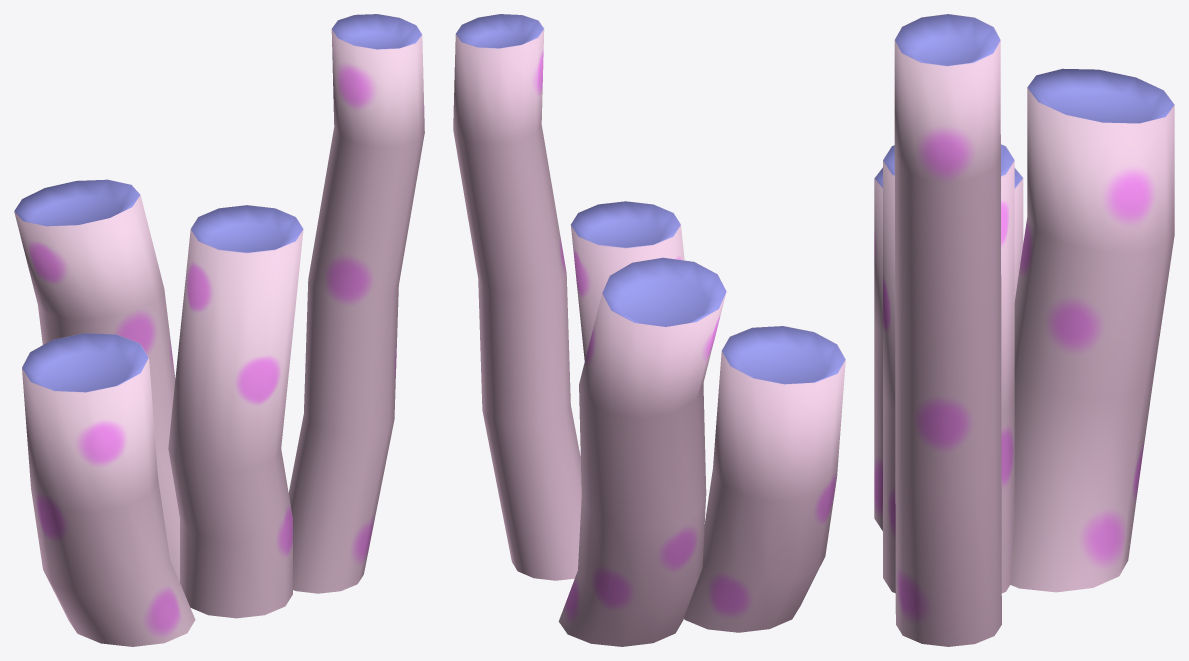
Rendered from Corall.fbx.
3 renders of one model, left to right at view 1: azimuth 30°, elevation 25°; view 2: azimuth 150°, elevation 25°; view 3: azimuth 270°, elevation 25°, orthographic. The views are drawn at different scales.
Visible parts, largest first — view 1: Coral; view 2: Coral; view 3: Coral.
Part boxes in pixels (x1,y1,x2,y2): Coral: (14, 14, 424, 646); Coral: (453, 14, 845, 646); Coral: (874, 14, 1174, 646).
Bounding box in the file's own units: 1.15 × 1.51 × 0.662.
